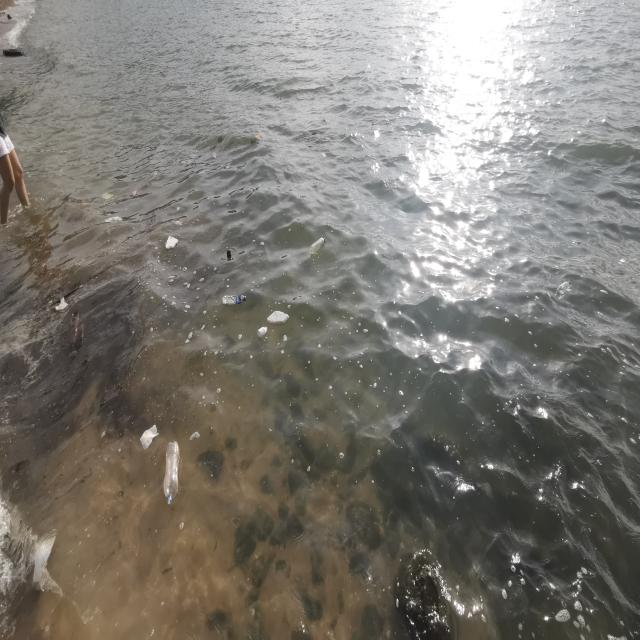foam: (31, 533, 57, 578), (140, 424, 159, 449), (267, 309, 289, 321), (165, 234, 180, 250), (55, 296, 68, 310)
plastic: (162, 441, 180, 508), (309, 236, 325, 254), (223, 292, 246, 302)
plastic bottle: (106, 215, 122, 224), (101, 190, 113, 201)
unknow: (173, 220, 183, 227)
